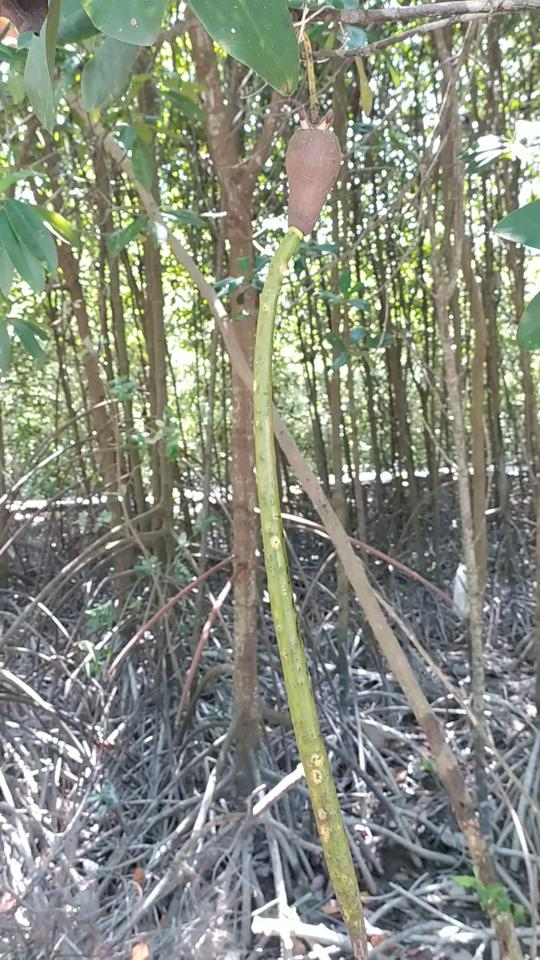setengah matang: (249, 107, 391, 956)
